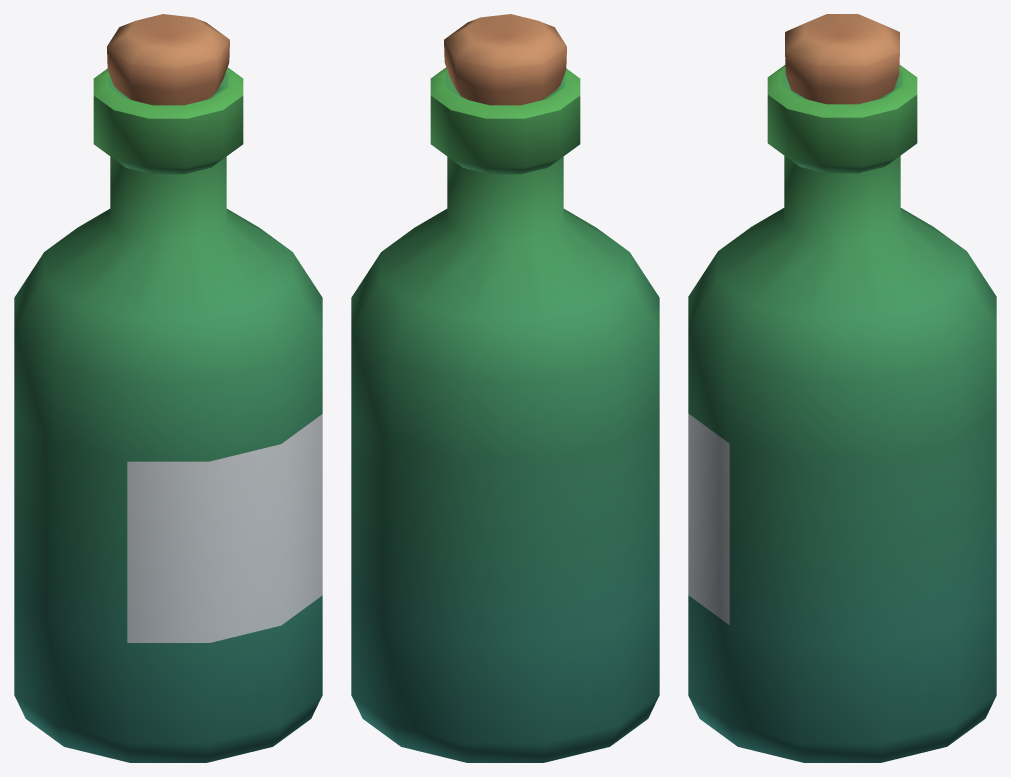
File: wineBottle.glb
The picture shows the model from 3 angles, left to right: view 1: azimuth 30°, elevation 25°; view 2: azimuth 150°, elevation 25°; view 3: azimuth 270°, elevation 25°; orthographic projection.
Visible parts, largest first — view 1: wine_bottle, wine_bottle_cork; view 2: wine_bottle, wine_bottle_cork; view 3: wine_bottle, wine_bottle_cork.
Boxes of the visible parts, x1,y1,x2,y2 form: wine_bottle: [14, 67, 322, 762]; wine_bottle_cork: [107, 14, 229, 105]; wine_bottle: [351, 67, 659, 762]; wine_bottle_cork: [444, 14, 566, 105]; wine_bottle: [688, 65, 996, 762]; wine_bottle_cork: [785, 14, 899, 104].
Bounding box in the file's own units: 0.39 × 0.9522 × 0.39.
Materials: 1 (1 with a texture image).
